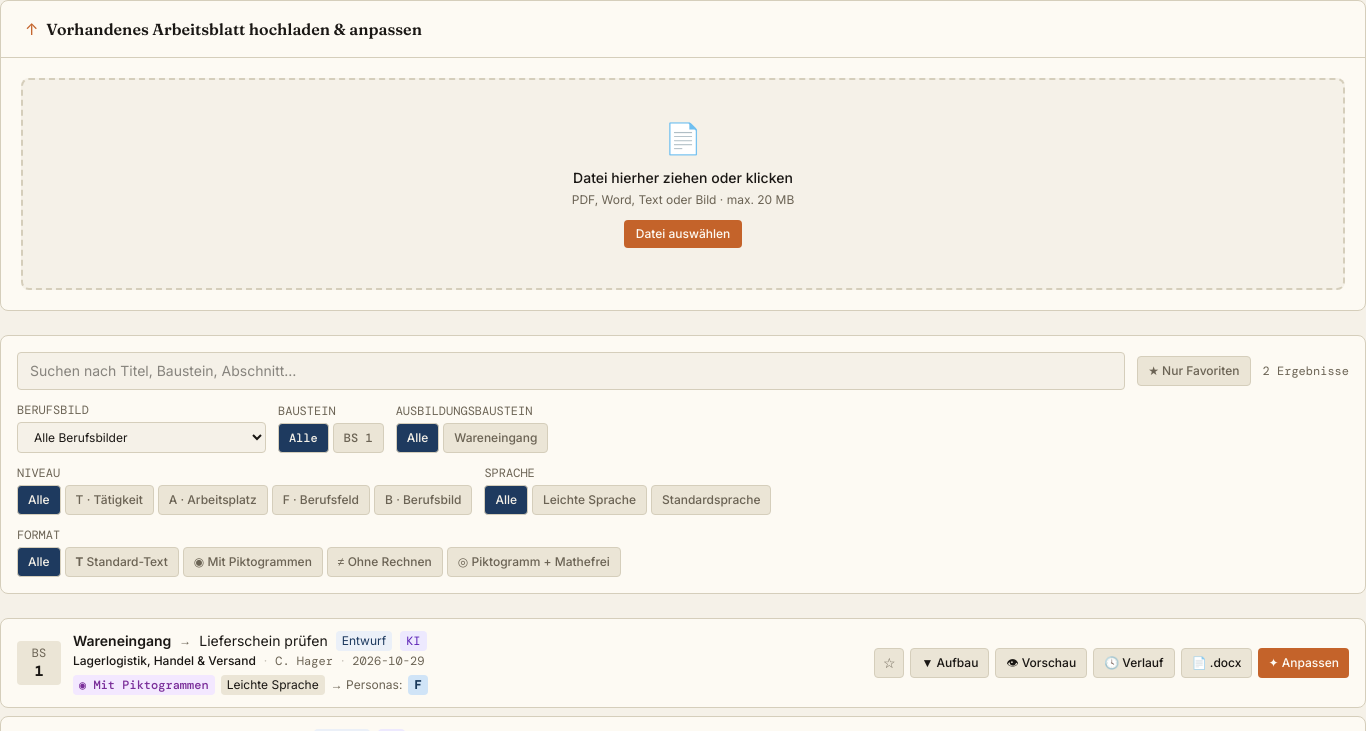
Arbeitsblätter aus dem Backend › filtert gespeicherte Blätter nach Berufsbild
Expected: the element "Lieferschein prüfen" is shown, [0, 618, 1365, 708]
Select "Gastronomie & Hauswirtschaft" in the dropdown labelled "BERUFSBILD" at (142, 438), box [17, 422, 266, 453]
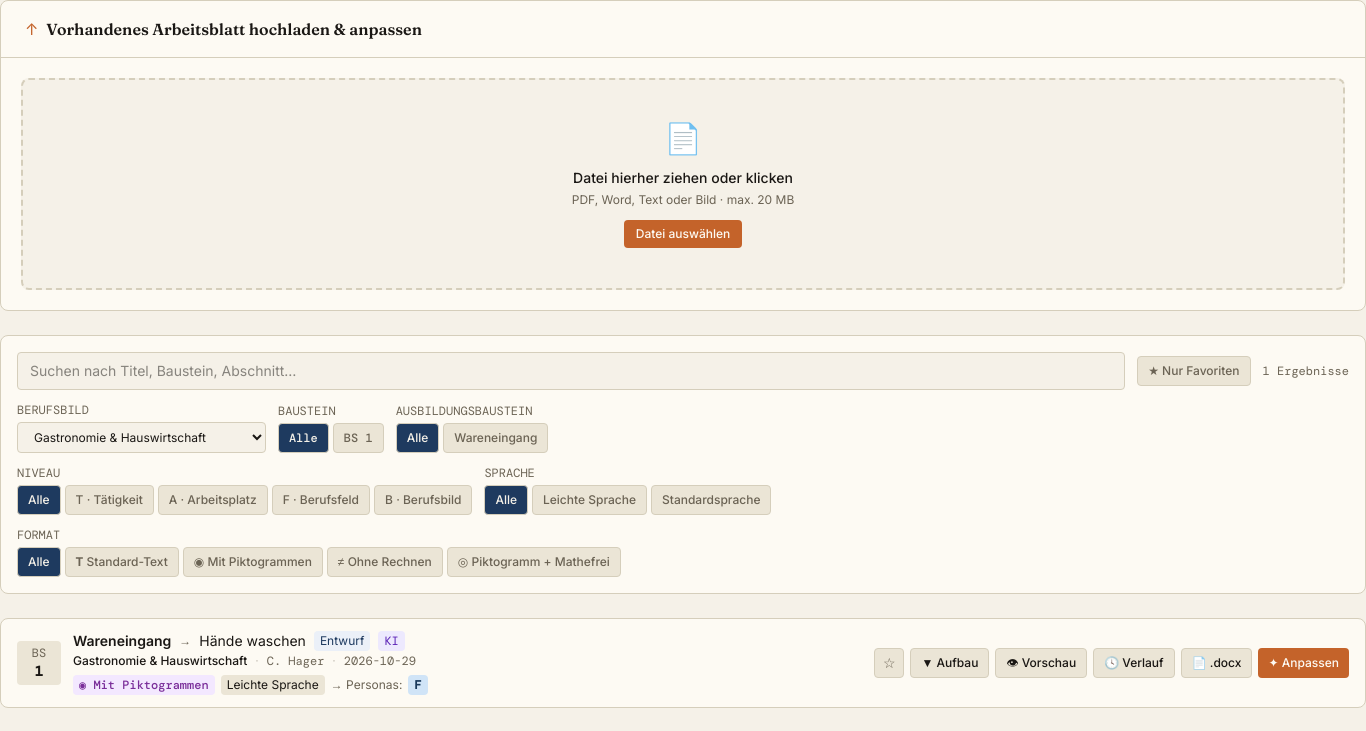
Expected: the element "Hände waschen" is shown, [0, 618, 1365, 708]
Expected: the heading "Lieferschein prüfen" is gone
